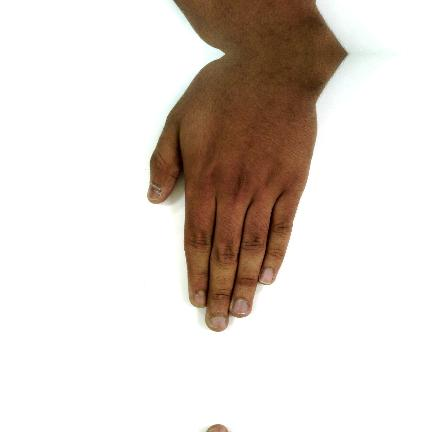Nail: (190, 291, 207, 308), (231, 299, 249, 314), (147, 183, 161, 202), (259, 268, 274, 285), (209, 317, 227, 330), (209, 426, 227, 432)
